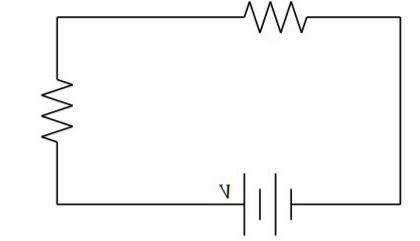resistor: (33, 68, 75, 162), (227, 0, 322, 38)
